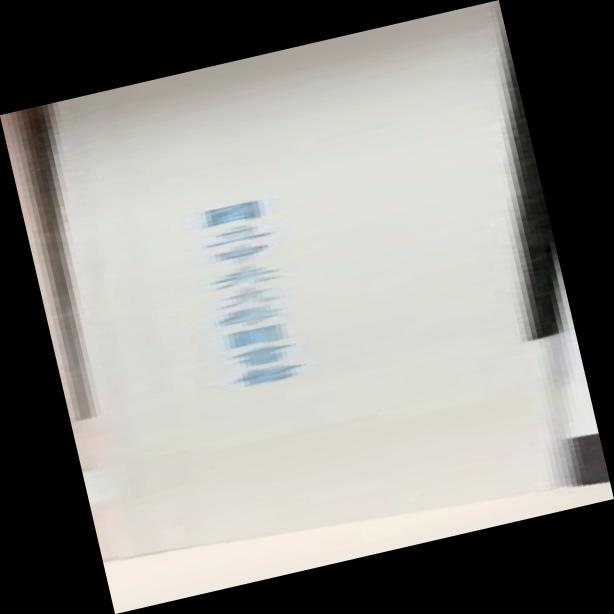backward: (1, 1, 614, 614)
